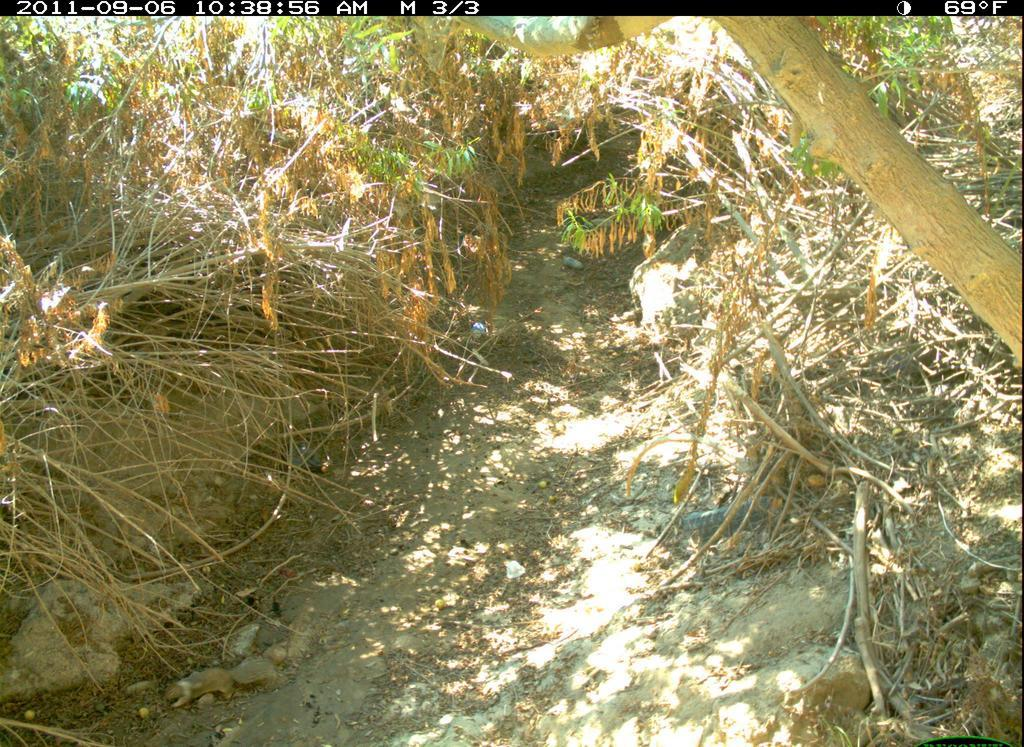squirrel: (145, 646, 310, 717)
